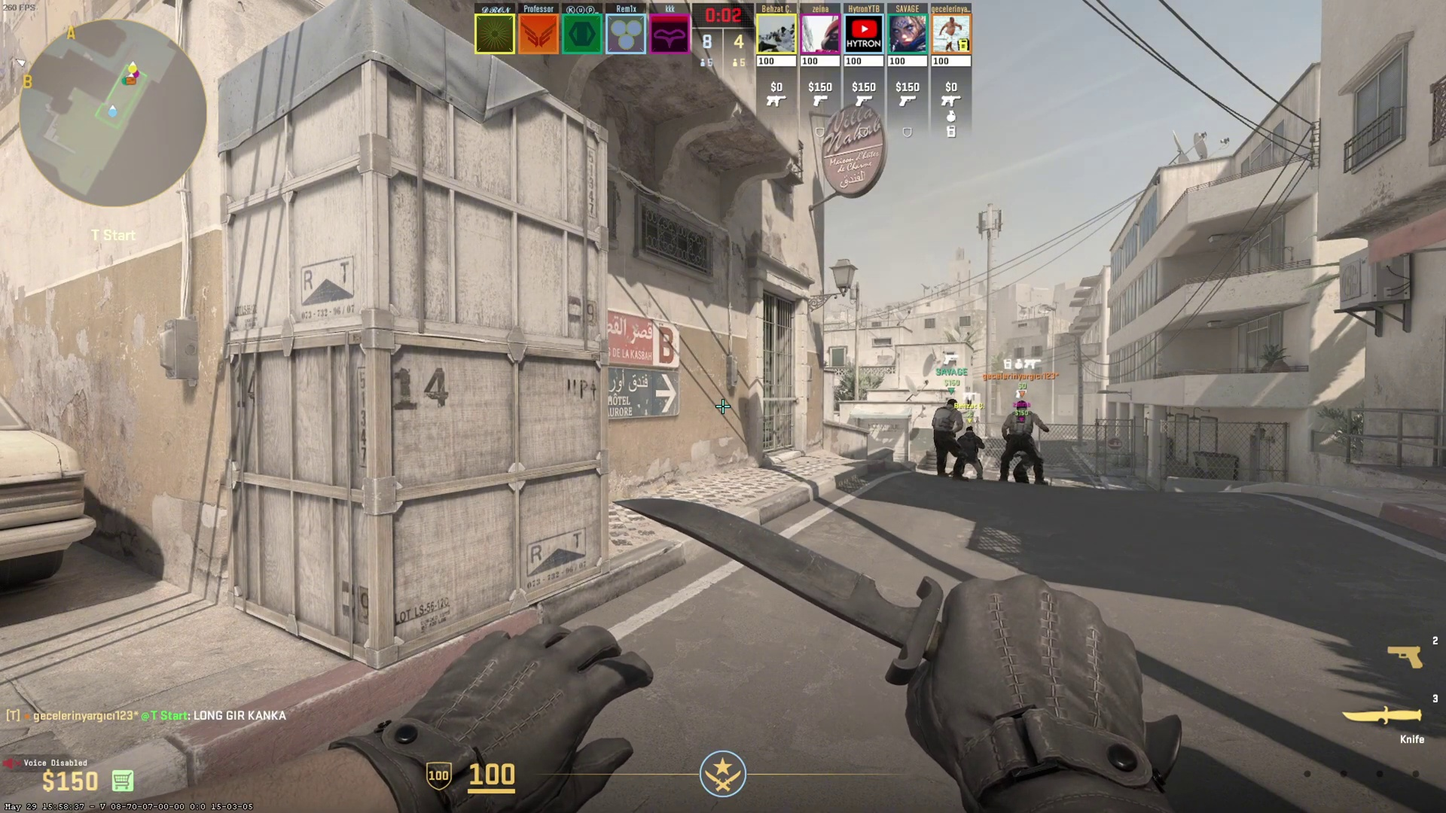Terrorist: (999, 401, 1048, 487), (934, 399, 960, 479), (961, 426, 984, 479)
